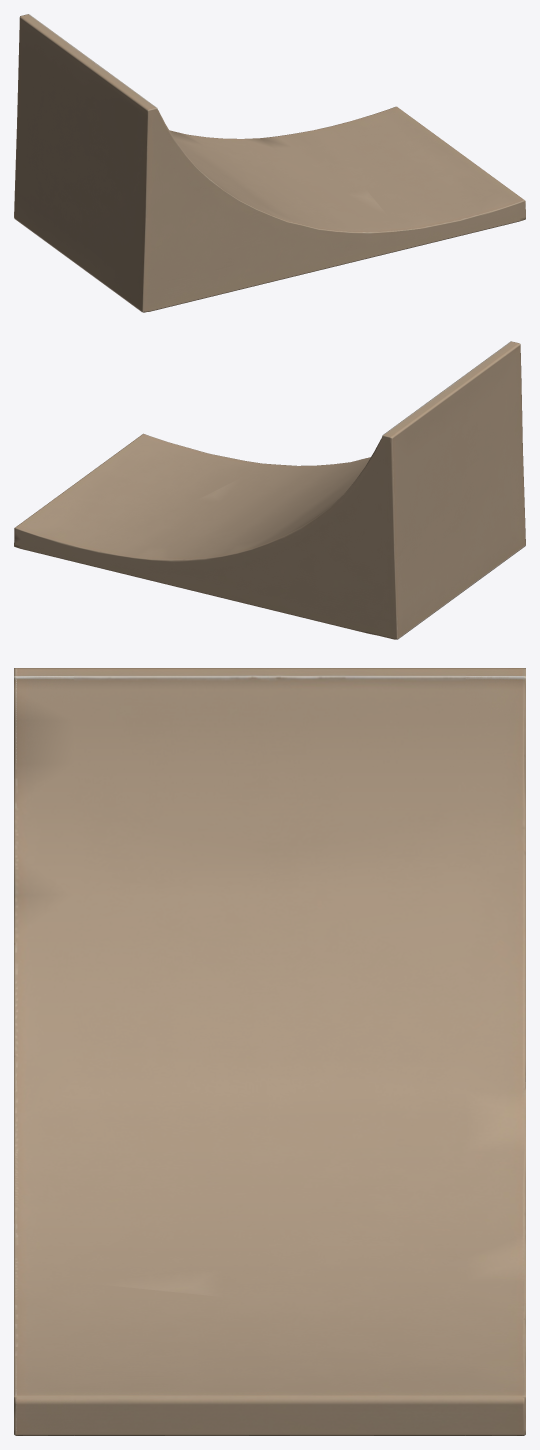
File: ramp_02.glb
The picture shows the model from 3 angles, top to bottom: view 1: azimuth 30°, elevation 25°; view 2: azimuth 150°, elevation 25°; view 3: azimuth 270°, elevation 25°; orthographic projection. The views are drawn at different scales.
Visible parts, largest first — view 1: tripo_node_62b03aa1-f6af-4451-880f-bde1b3c7cbf4; view 2: tripo_node_62b03aa1-f6af-4451-880f-bde1b3c7cbf4; view 3: tripo_node_62b03aa1-f6af-4451-880f-bde1b3c7cbf4.
Boxes of the visible parts, x1,y1,x2,y2 form: tripo_node_62b03aa1-f6af-4451-880f-bde1b3c7cbf4: (14, 14, 525, 312); tripo_node_62b03aa1-f6af-4451-880f-bde1b3c7cbf4: (14, 341, 525, 639); tripo_node_62b03aa1-f6af-4451-880f-bde1b3c7cbf4: (14, 668, 525, 1435).
Bounding box in the file's own units: 0.998 × 0.502 × 0.5801.
Materials: 1 (1 with a texture image).
